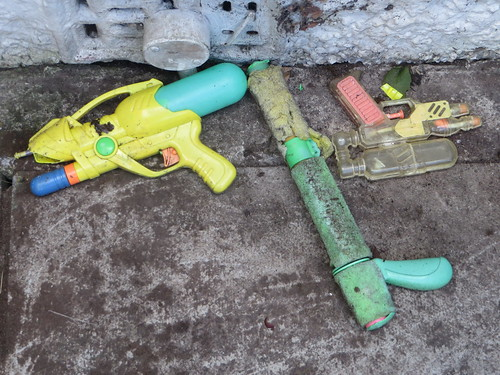trash: (21, 55, 500, 375)
